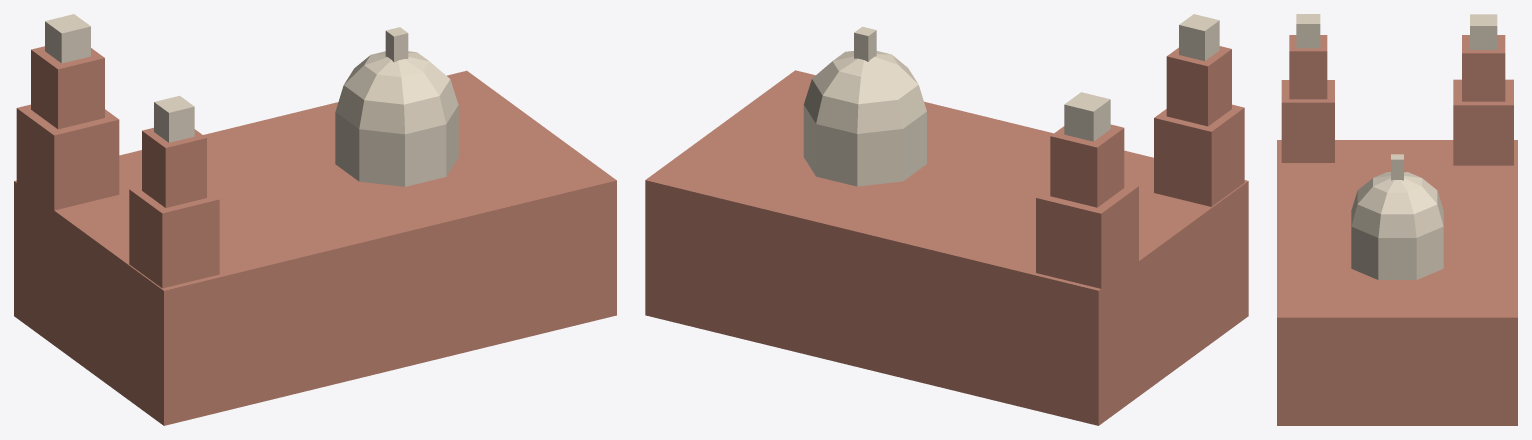
File: catedral-prueba.glb
3 renders of one model, left to right at view 1: azimuth 30°, elevation 25°; view 2: azimuth 150°, elevation 25°; view 3: azimuth 270°, elevation 25°, orthographic. The views are drawn at different scales.
Parts seen in each view (by area): view 1: catedral-prueba; view 2: catedral-prueba; view 3: catedral-prueba.
Part boxes in pixels (x1,y1,x2,y2): catedral-prueba: (14, 14, 616, 425); catedral-prueba: (645, 14, 1248, 425); catedral-prueba: (1277, 14, 1517, 425).
Bounding box in the file's own units: 63.17 × 40 × 36.22.
